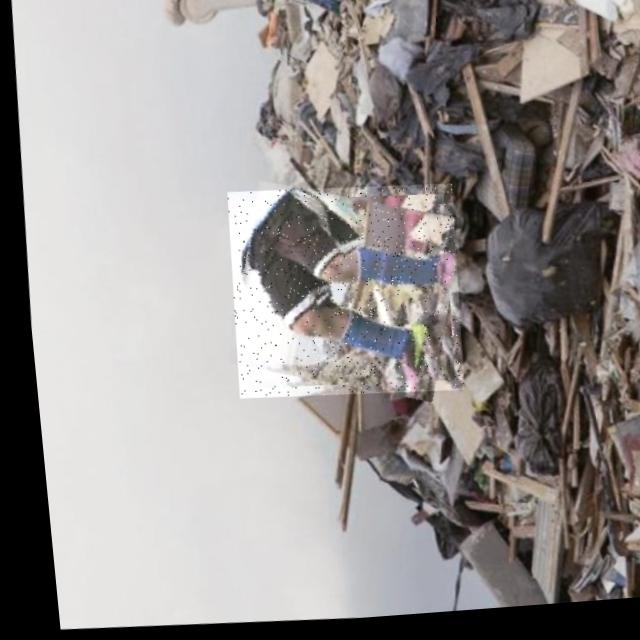Person in Rubble: (215, 181, 462, 408)
